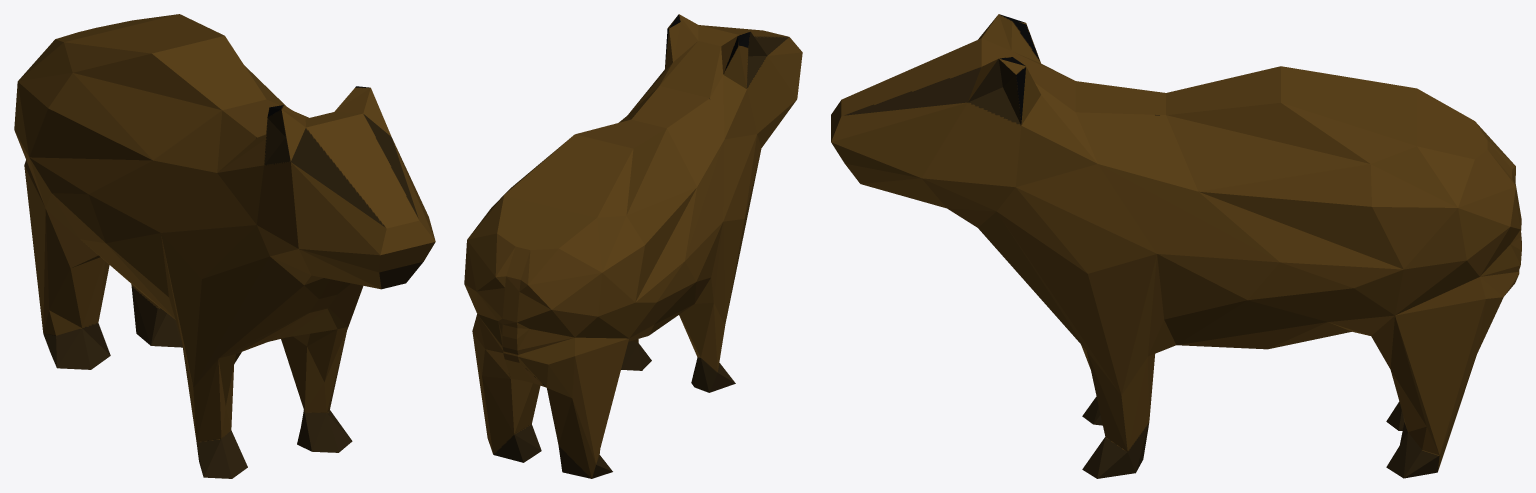
File: capybara.dae
3 views of the same model, side by side, from view 1: azimuth 30°, elevation 25°; view 2: azimuth 150°, elevation 25°; view 3: azimuth 270°, elevation 25° (orthographic). The views are drawn at different scales.
Parts seen in each view (by area): view 1: Newcapy; view 2: Newcapy; view 3: Newcapy.
Boxes of the visible parts, bbox=[...] form: Newcapy: bbox=[14, 14, 435, 478]; Newcapy: bbox=[464, 14, 802, 478]; Newcapy: bbox=[831, 14, 1521, 478].
Size of the model in its own units: 23.01 by 66.5 by 43.36.
1 material, 1 textured.
